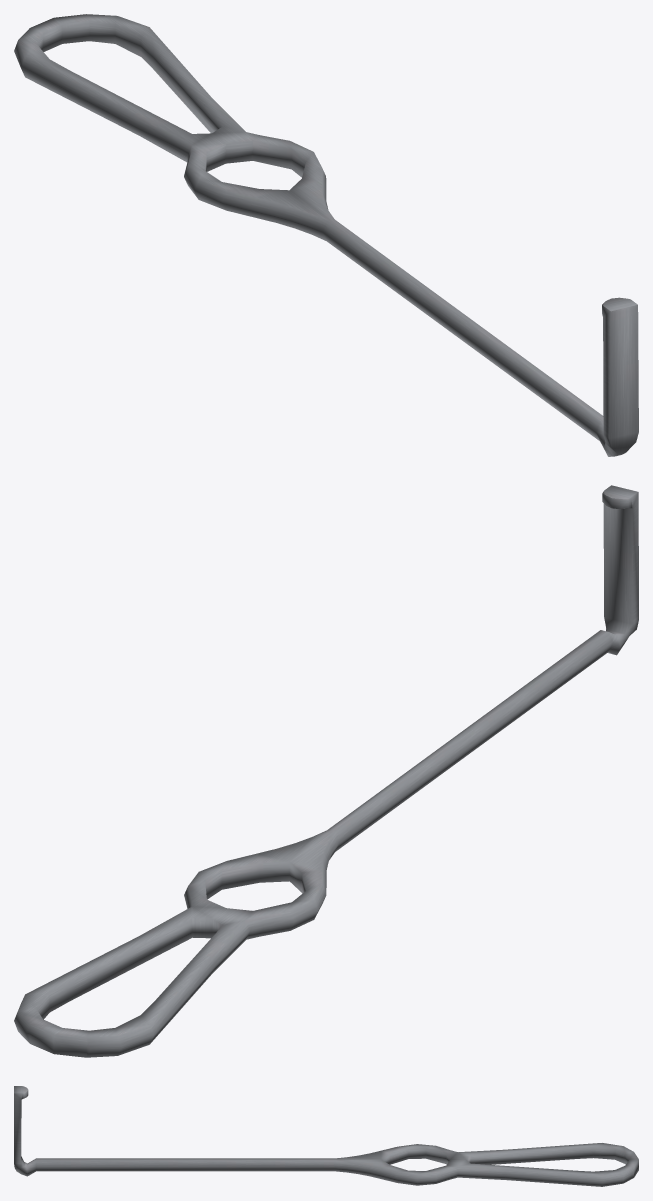
Rendered from model_Retractortugiu.fbx.
3 views of the same model, one above another, from view 1: azimuth 30°, elevation 25°; view 2: azimuth 150°, elevation 25°; view 3: azimuth 270°, elevation 25° (orthographic). The views are drawn at different scales.
Visible parts, largest first — view 1: Retractortugiu; view 2: Retractortugiu; view 3: Retractortugiu.
Boxes of the visible parts, x1=… form: Retractortugiu: x1=14, y1=14, x2=638, y2=456; Retractortugiu: x1=14, y1=485, x2=638, y2=1057; Retractortugiu: x1=14, y1=1086, x2=638, y2=1186.
Bounding box in the file's own units: 3.46 × 3.9 × 25.77.
Materials: 1 (1 with a texture image).
